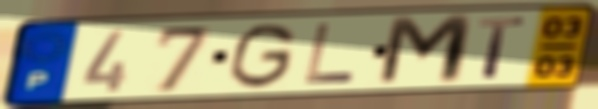4: (80, 28, 130, 93)
7: (153, 25, 212, 94)
G: (225, 21, 300, 91)
L: (301, 22, 359, 86)
M: (373, 12, 478, 89)
T: (475, 15, 529, 81)
